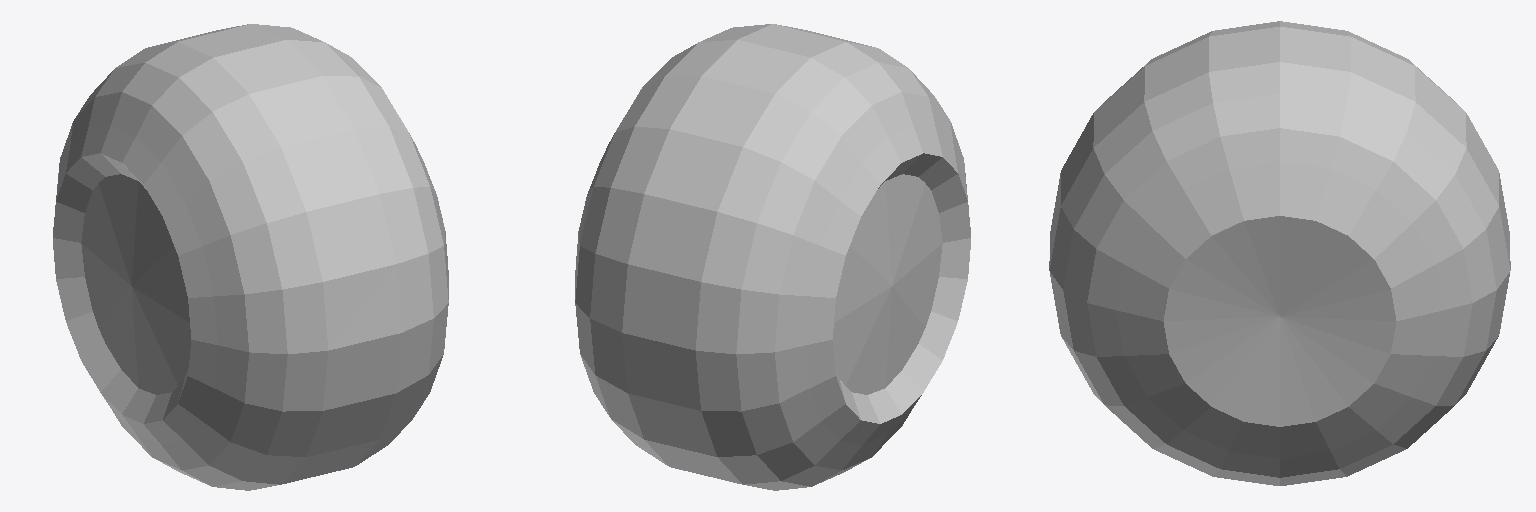
Rendered from Leaf Tire.obj.
The picture shows the model from 3 angles: view 1: azimuth 30°, elevation 25°; view 2: azimuth 150°, elevation 25°; view 3: azimuth 270°, elevation 25°; orthographic projection.
Visible parts, largest first — view 1: TireB_B__m_Tire, TireB_F__m_Tire; view 2: TireB_B__m_Tire, TireB_F__m_Tire; view 3: TireB_B__m_Tire.
Part boxes in pixels (left/top/right/bottom): TireB_B__m_Tire: left=53, top=24, right=448, bottom=490; TireB_F__m_Tire: left=100, top=290, right=246, bottom=444; TireB_B__m_Tire: left=575, top=24, right=970, bottom=490; TireB_F__m_Tire: left=847, top=238, right=970, bottom=424; TireB_B__m_Tire: left=1049, top=21, right=1510, bottom=485.
Bounding box in the file's own units: 0.0362 × 0.0539 × 0.0539.